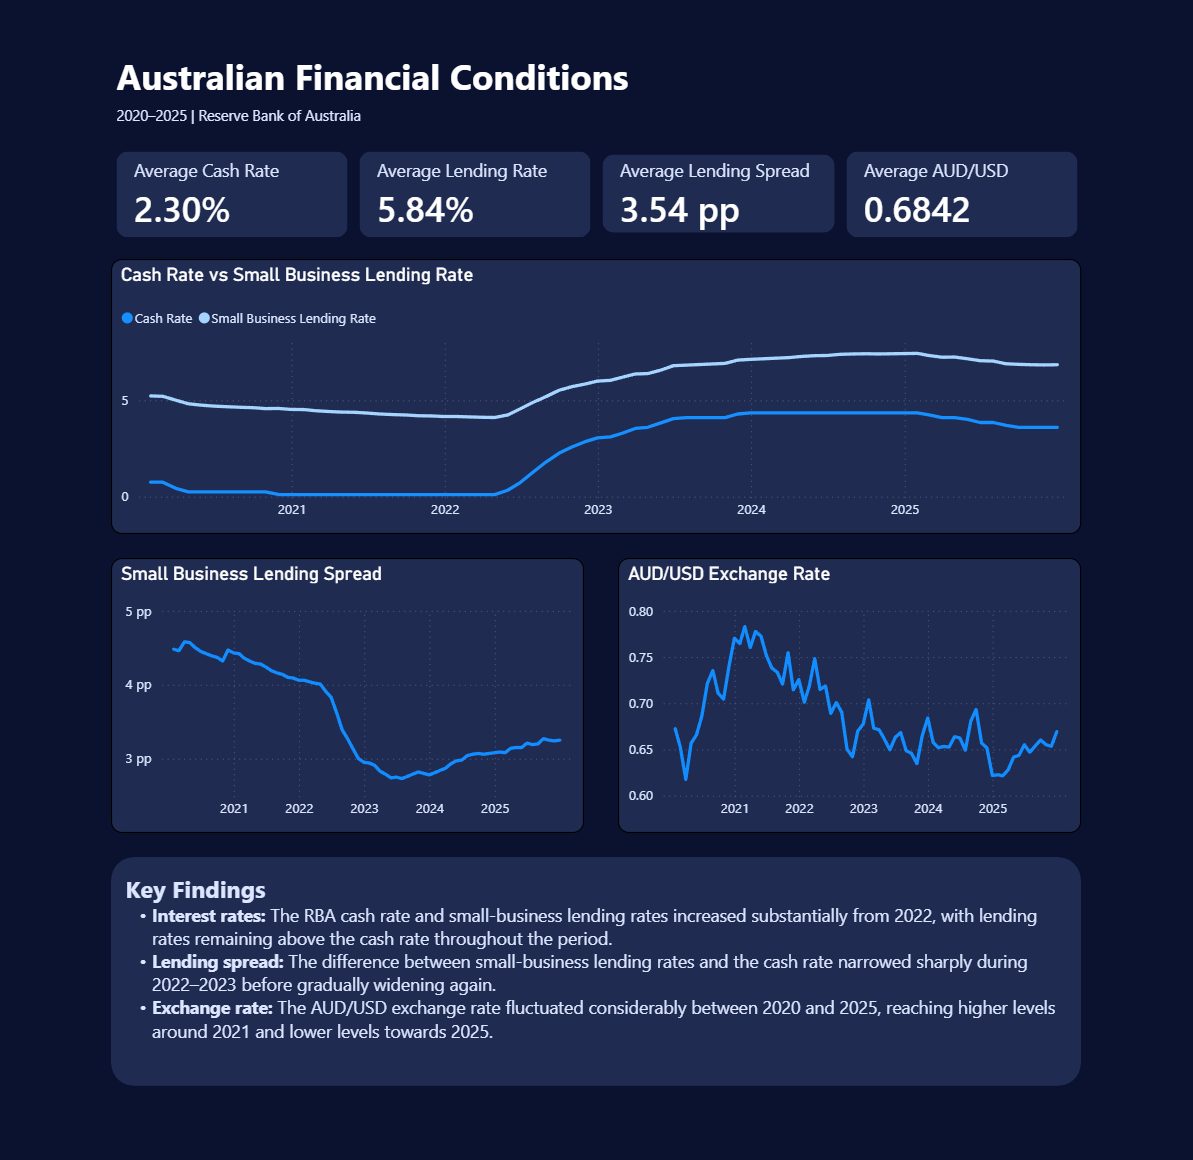

The dashboard page shown, as its layout file describes it:
{"tool":"powerbi","page":{"name":"Page 1","canvas":[1600,1200],"ordinal":0},"visuals":[{"type":"cardVisual","fields":{"Data":["Cash_Rates2.Average Cash Rate"]},"box":[163.1,136.2,220.4,88.3],"z":0},{"type":"cardVisual","fields":{"Data":["Business_Rates3.Average Lending Rate"]},"box":[383.8,136.2,220.4,88.3],"z":1000},{"type":"cardVisual","fields":{"Data":["Financial_Conditions4.Average Lending Spread"]},"box":[604.6,139.2,221.5,81.5],"z":2000},{"type":"cardVisual","fields":{"Data":["Exchange_Rates1.Average AUD/USD"]},"box":[826.2,136.2,220.4,88.3],"z":3000},{"type":"lineChart","title":"Cash Rate vs Small Business Lending Rate","fields":{"Category":["Financial_Conditions4.Date"],"Y":["Avg(Financial_Conditions4.Cash_Rates)","Avg(Financial_Conditions4.Small_Business_Total)"]},"box":[163.1,239.2,882.3,250],"z":4000},{"type":"lineChart","title":"Small Business Lending Spread","fields":{"Category":["Financial_Conditions4.Date"],"Y":["Financial_Conditions4.Average Lending Spread"]},"box":[162.7,510.9,430,250],"z":5000},{"type":"lineChart","title":"AUD/USD Exchange Rate","fields":{"Category":["Financial_Conditions4.Date"],"Y":["Avg(Financial_Conditions4.AUD/USD)"]},"box":[623.6,510.9,420.9,250],"z":6000},{"type":"textbox","box":[162.7,45.5,487.7,75.4],"z":7000},{"type":"textbox","box":[162.7,94.5,255.4,33.1],"z":8000},{"type":"shape","box":[162.7,782.7,881.8,208.2],"z":9000},{"type":"textbox","box":[170.9,791.8,864.5,183.6],"z":10000}]}

Visuals, with their boxes on the page's 1600x1200 design canvas (x1, y1, x2, y2). These are canvas units, not pixel positions in the 1193x1160 screenshot, which may show the page scaled, cropped or inside an application window:
cardVisual - Cash_Rates2.Average Cash Rate: (163, 136, 384, 224)
cardVisual - Business_Rates3.Average Lending Rate: (384, 136, 604, 224)
cardVisual - Financial_Conditions4.Average Lending Spread: (605, 139, 826, 221)
cardVisual - Exchange_Rates1.Average AUD/USD: (826, 136, 1047, 224)
"Cash Rate vs Small Business Lending Rate" lineChart: (163, 239, 1045, 489)
"Small Business Lending Spread" lineChart: (163, 511, 593, 761)
"AUD/USD Exchange Rate" lineChart: (624, 511, 1044, 761)
textbox: (163, 46, 650, 121)
textbox: (163, 94, 418, 128)
shape: (163, 783, 1044, 991)
textbox: (171, 792, 1035, 975)
